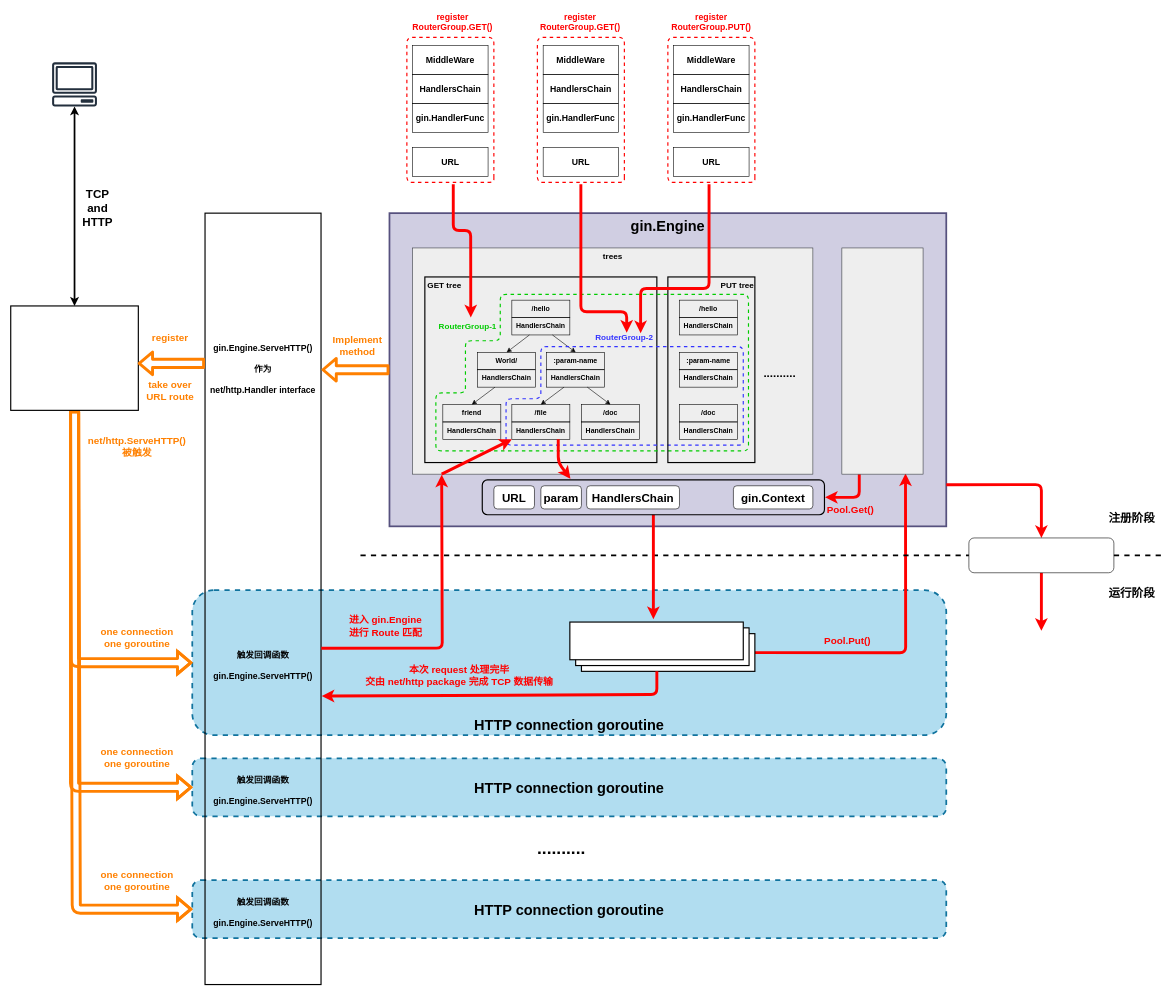
This 1176x995 diagram has some shape labels left out. Here are the shapes that lost their labels. From the top down, the centre of each, then its label:
At (x=74, y=358): "net/http package".
At (x=882, y=360): "gin.Context sync.Pool".
At (x=1041, y=555): "gin.Engine.Run()".
At (x=656, y=640): "gin.HandlerFunc 执行业务处理 并准备 HTTP resp 数据".
